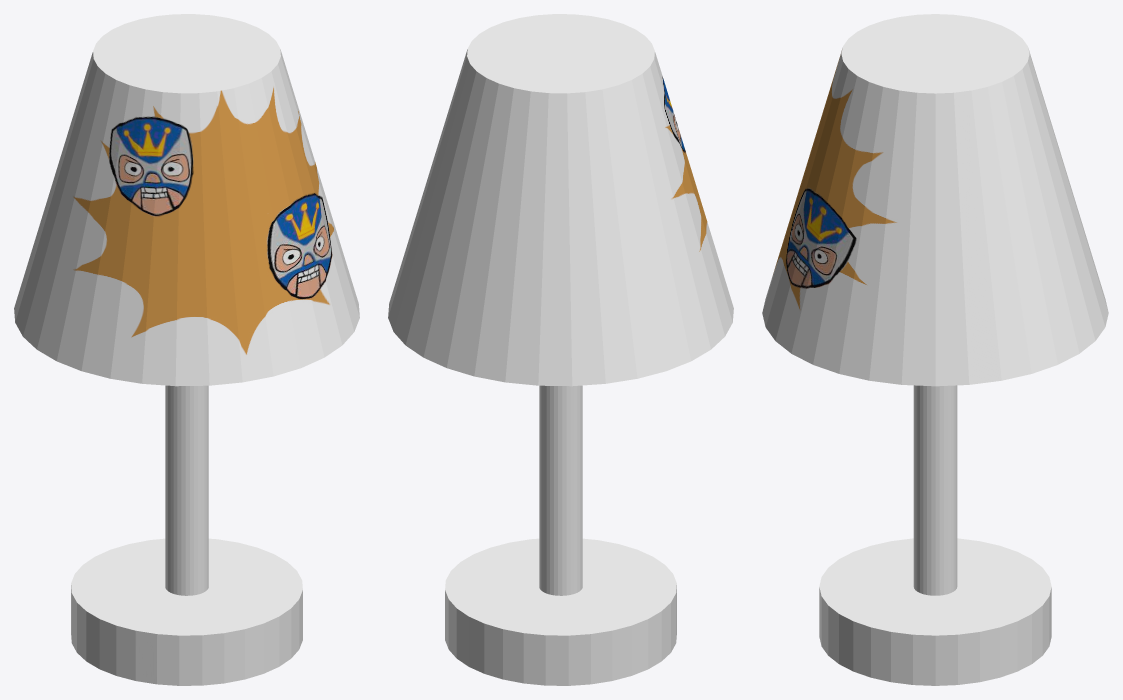
File: lampara.obj
3 views of the same model, side by side, from view 1: azimuth 30°, elevation 25°; view 2: azimuth 150°, elevation 25°; view 3: azimuth 270°, elevation 25° (orthographic).
Parts seen in each view (by area): view 1: Mesh; view 2: Mesh; view 3: Mesh.
Boxes of the visible parts, left/top/right/bottom form: Mesh: left=14, top=14, right=359, bottom=685; Mesh: left=388, top=14, right=733, bottom=685; Mesh: left=762, top=14, right=1108, bottom=685.
Bounding box in the file's own units: 2.98 × 5.54 × 2.98.
1 material, 1 textured.
